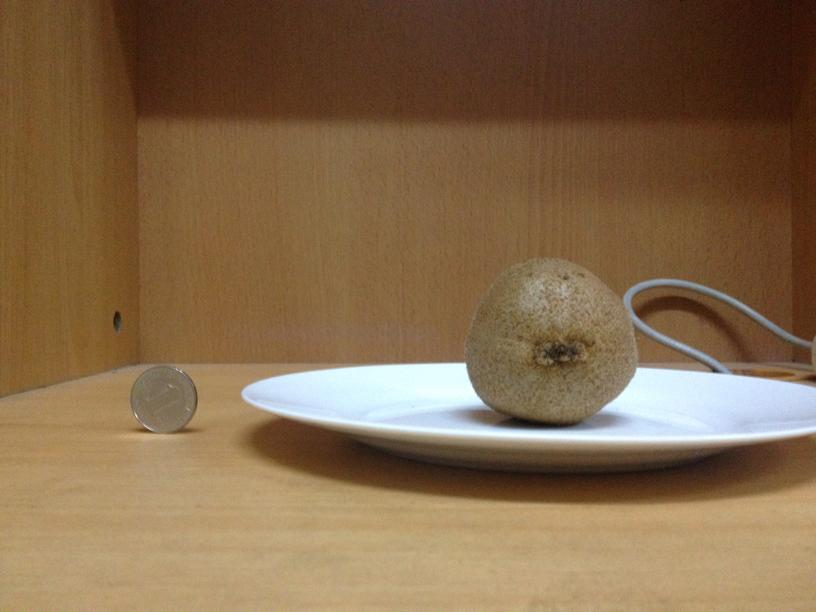coin: (126, 364, 198, 434)
qiwi: (453, 255, 635, 422)
